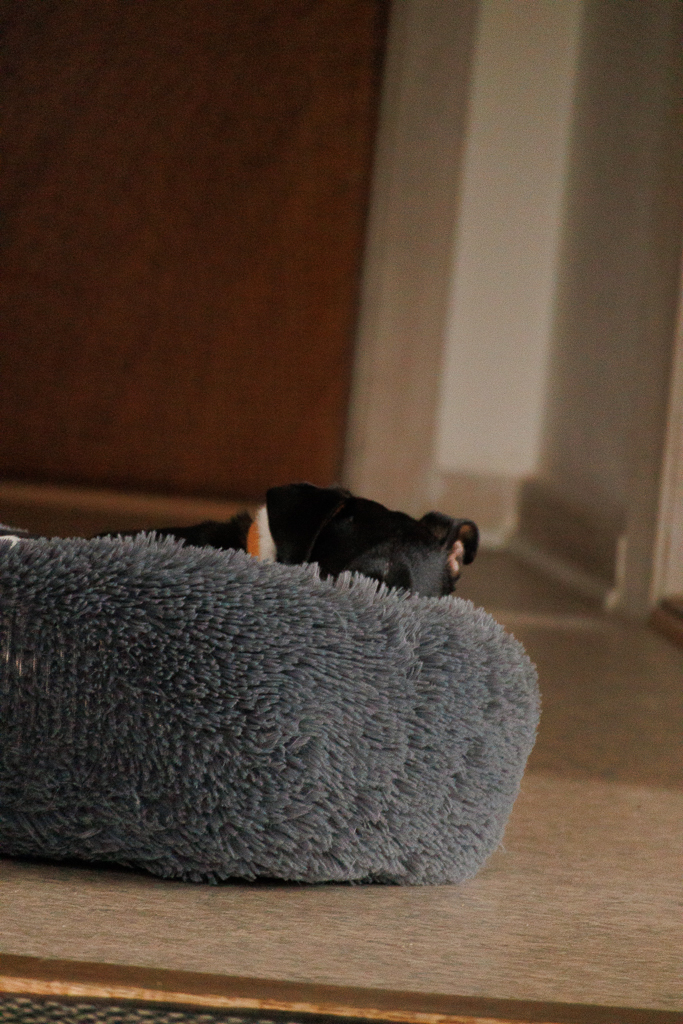Dog: (0, 469, 487, 602)
